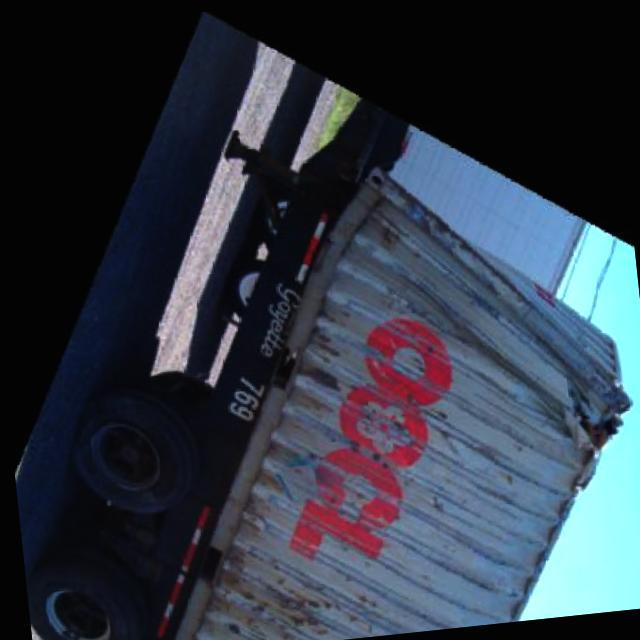hole: (514, 288, 640, 487)
rust: (292, 309, 358, 436), (243, 566, 320, 639)
